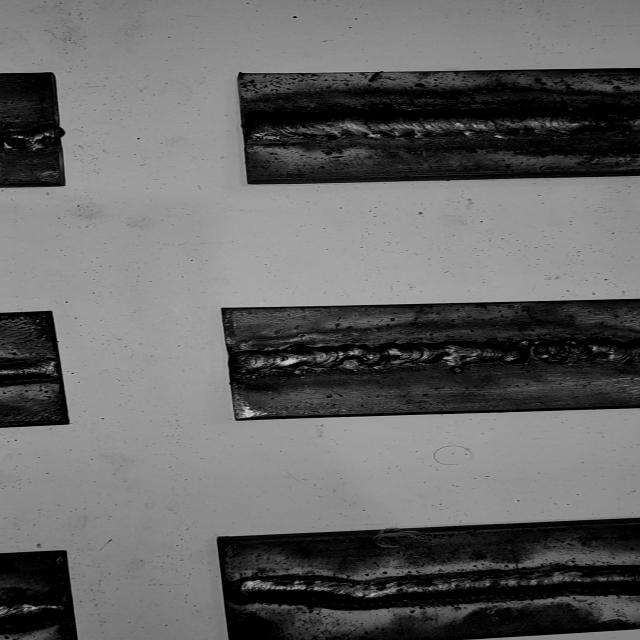Defect: (509, 328, 587, 382), (574, 99, 640, 147)
Welding Line: (237, 565, 640, 604), (231, 338, 640, 376), (246, 108, 640, 138)
Workpiece: (208, 294, 640, 424), (206, 515, 640, 640), (228, 62, 640, 188)
